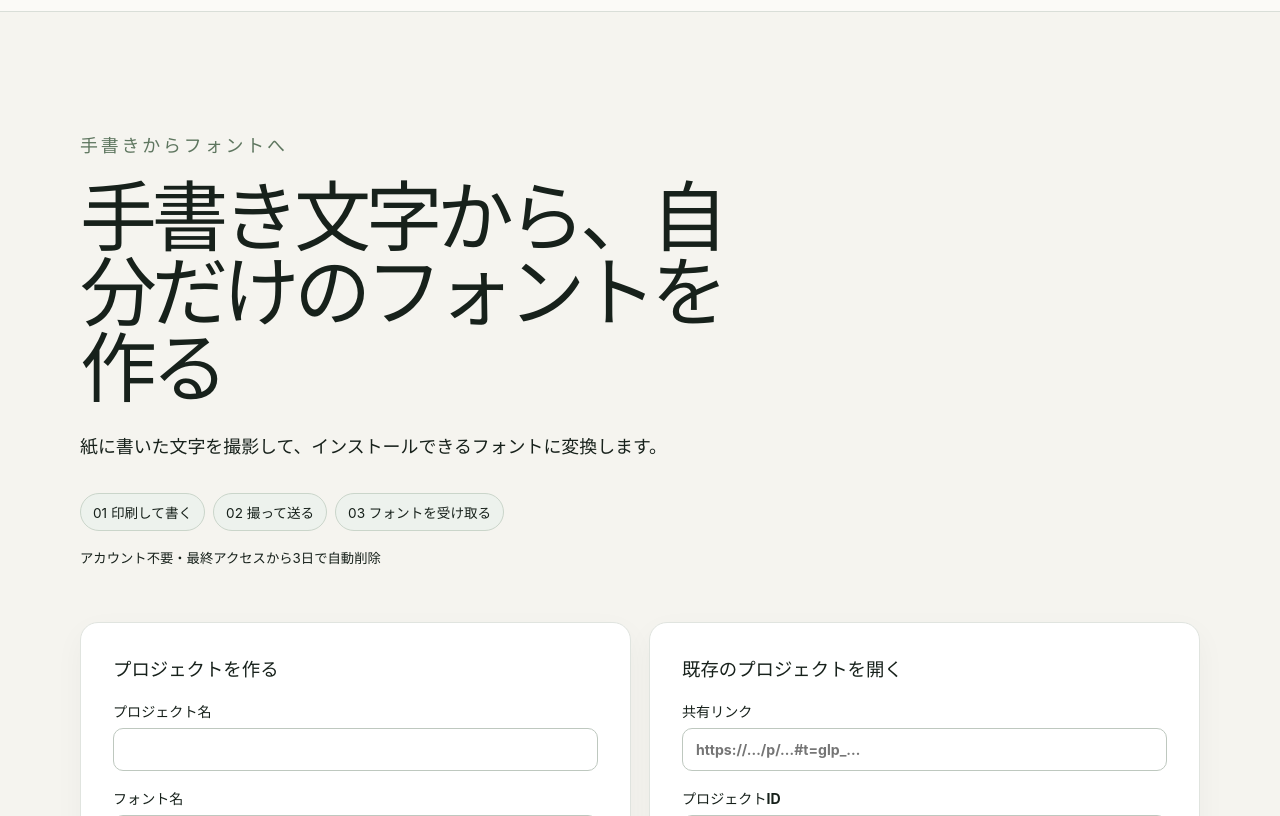
Test: validates fields during editing without initial error noise and enables valid submission
In the field labelled "プロジェクト名": (356,750) [113,728,598,771], type " leading"
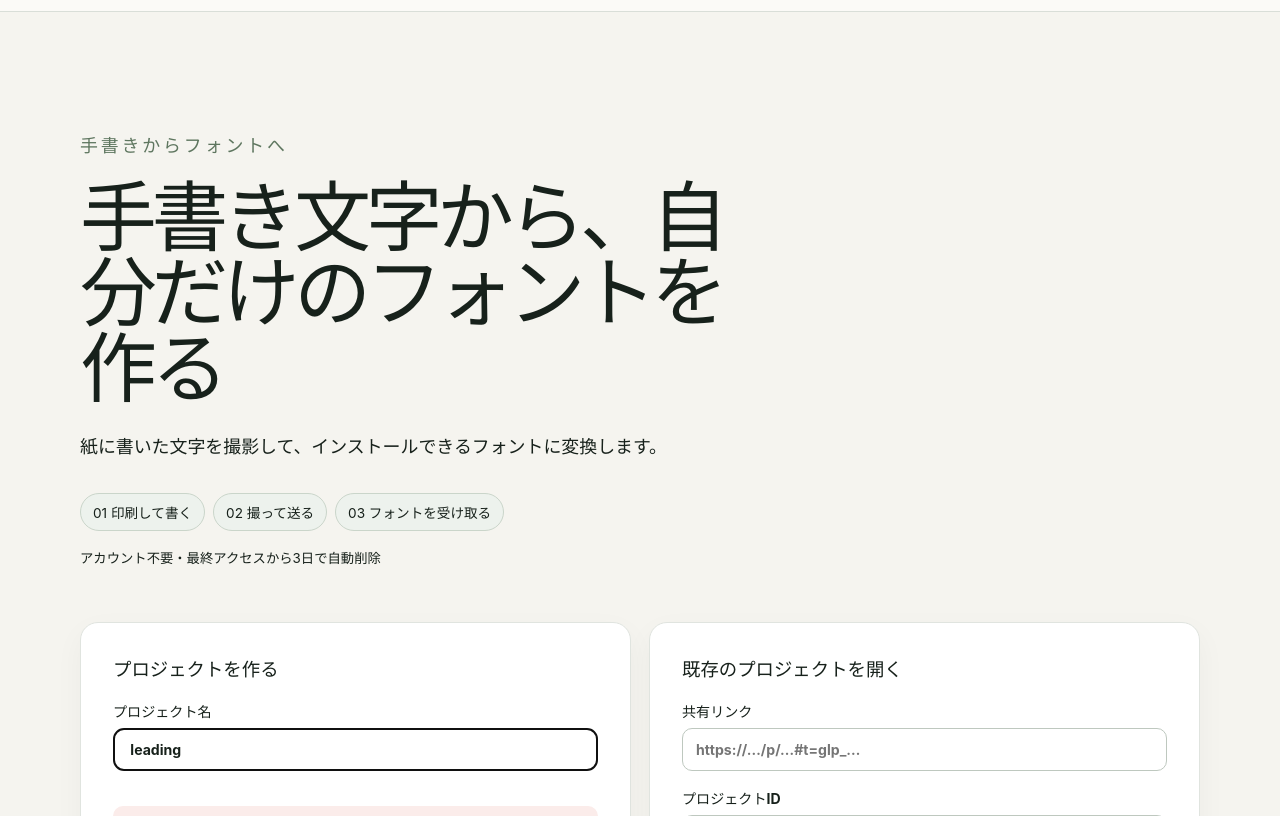
Now the field labelled "プロジェクト名" is marked as invalid
Replace the text in the field labelled "プロジェクト名" with "Café": (356,750) [113,728,598,771]
(page scrolled)
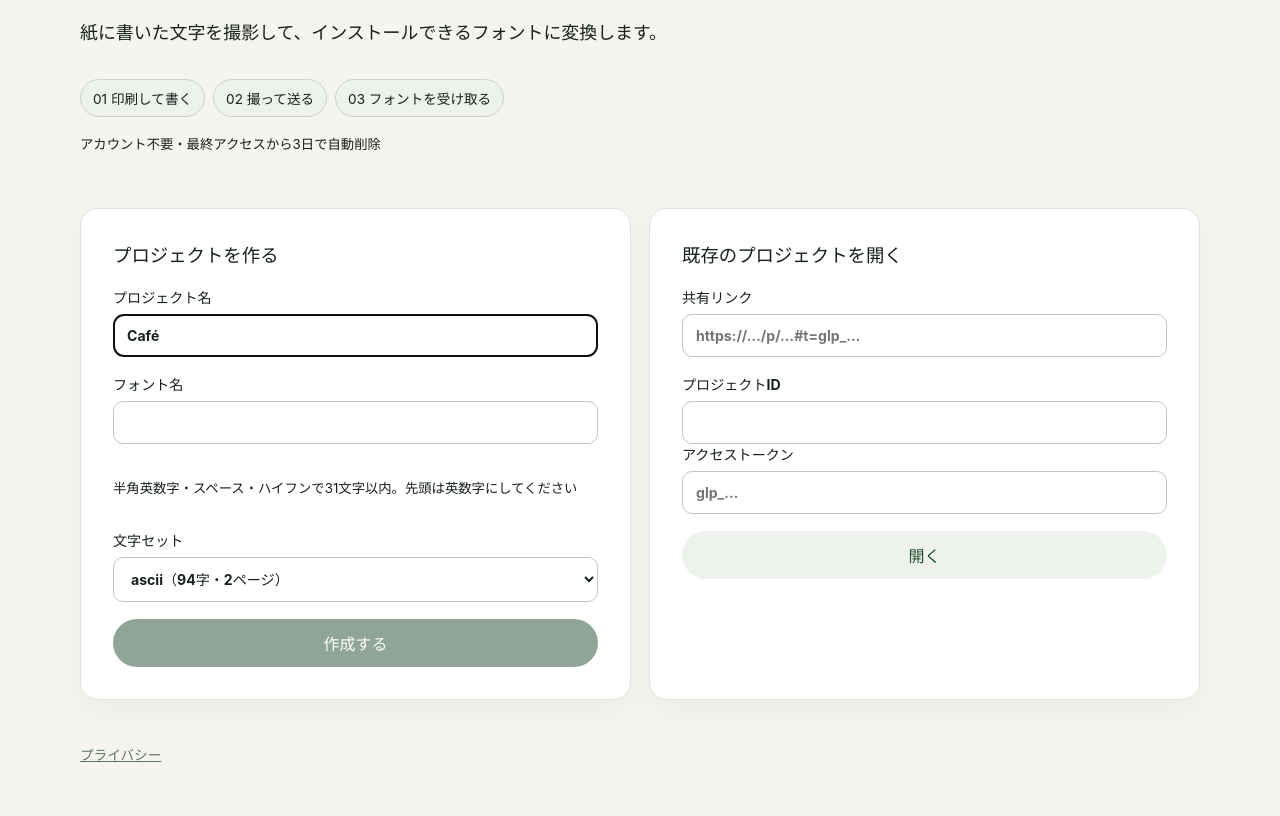
In the field labelled "フォント名": (356,423) [113,401,598,444], type "My Font"
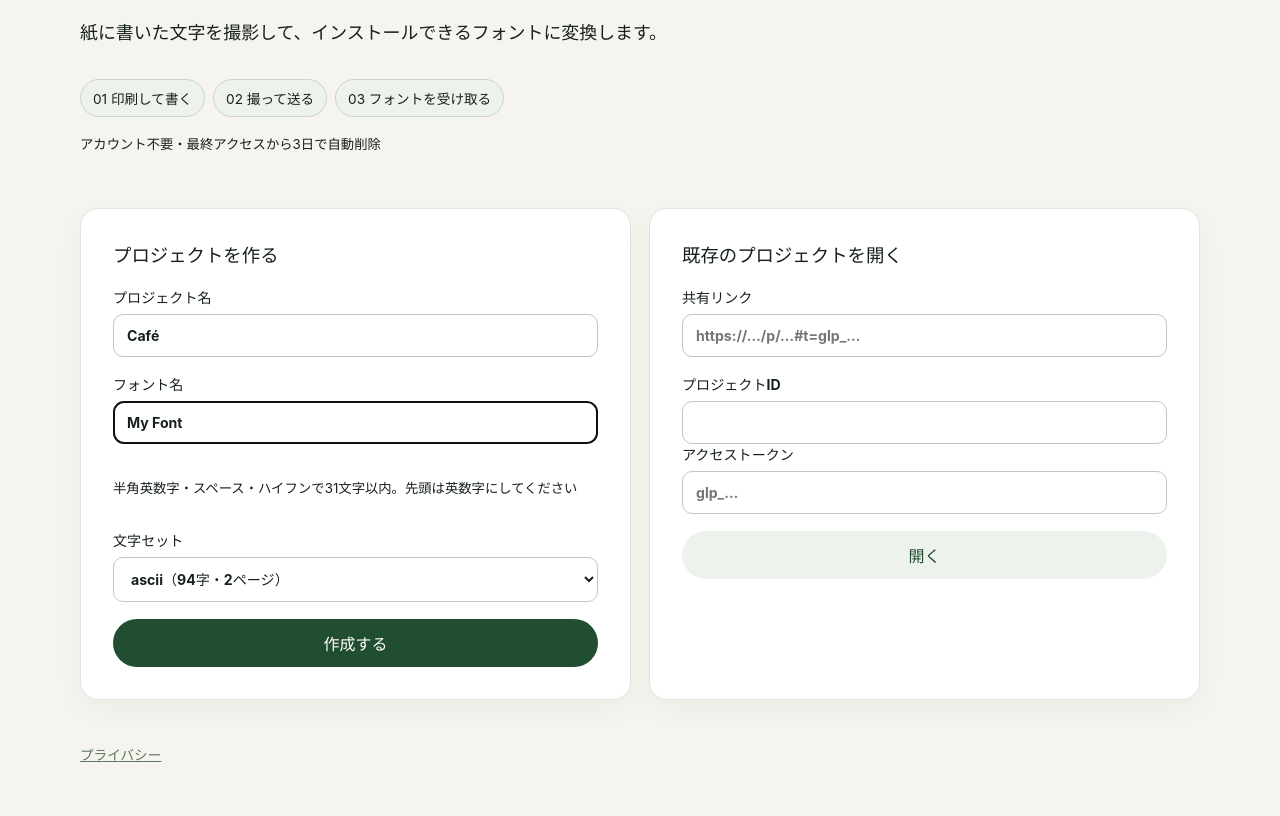
Now the button "作成する" is enabled, box [113,619,598,667]
Clear the field labelled "フォント名": (356,423) [113,401,598,444]
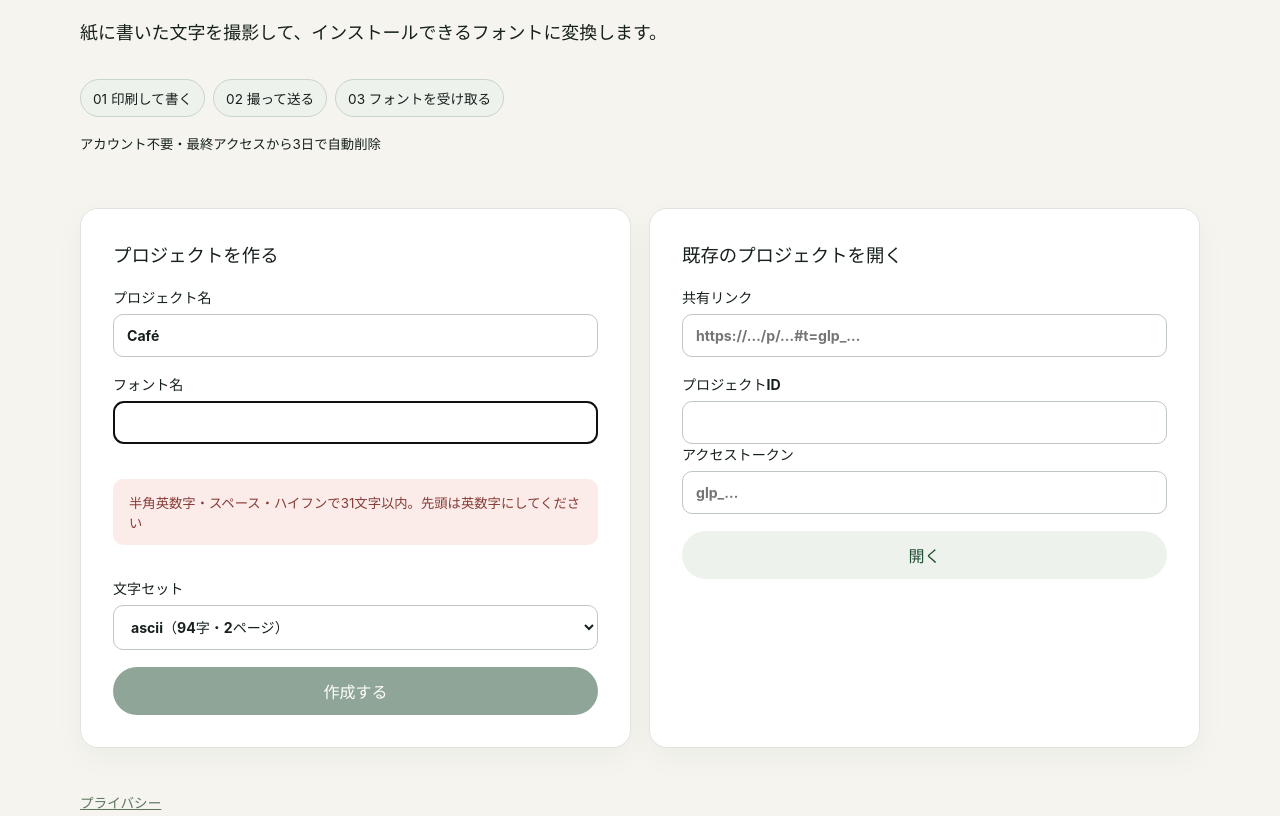
Now the button "作成する" is disabled, box [113,667,598,715]
